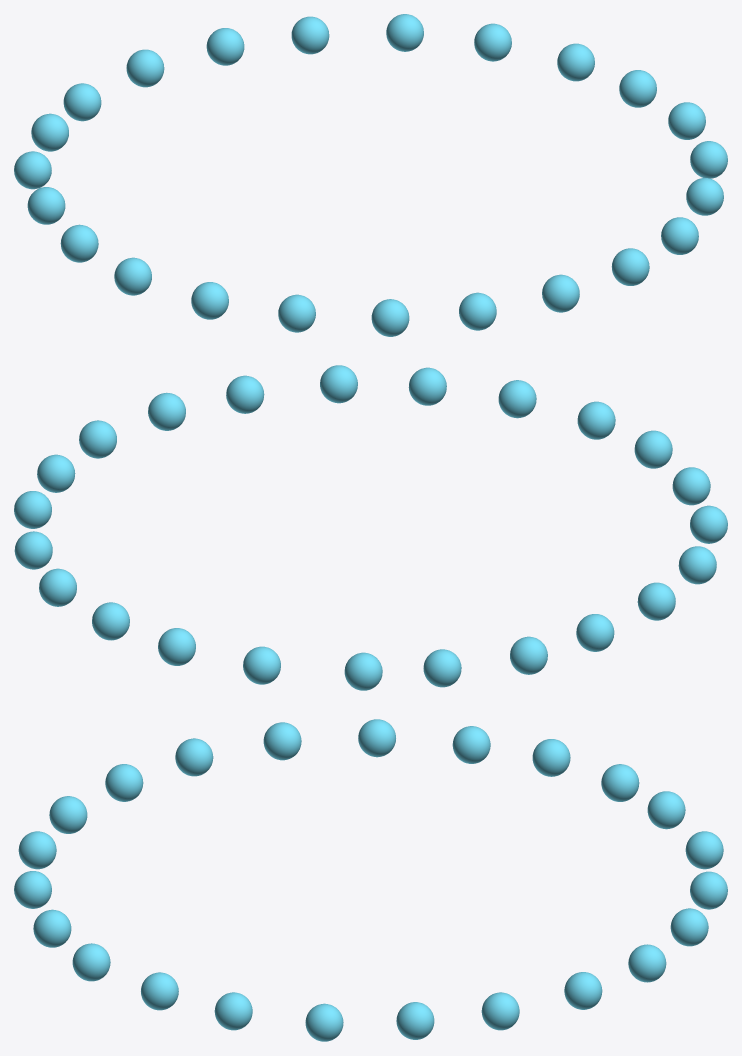
3 renders of one model, top to bottom at view 1: azimuth 30°, elevation 25°; view 2: azimuth 150°, elevation 25°; view 3: azimuth 270°, elevation 25°, orthographic.
Visible parts, largest first — view 1: Sphere049; view 2: Sphere049; view 3: Sphere049.
Part boxes in pixels (bbox=[...]): Sphere049: bbox=[14, 14, 727, 336]; Sphere049: bbox=[14, 365, 727, 690]; Sphere049: bbox=[14, 719, 727, 1041].
Bounding box in the file's own units: 154 × 8.22 × 154.
